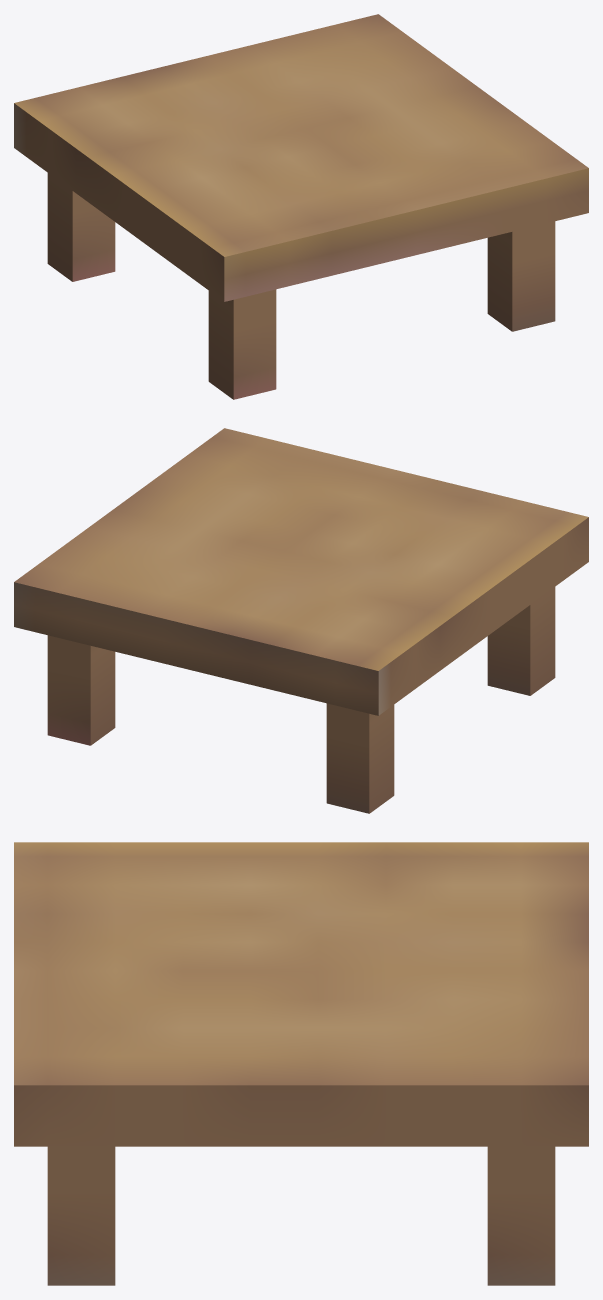
File: KiddieTableBrown_00.obj
The picture shows the model from 3 angles, top to bottom: view 1: azimuth 30°, elevation 25°; view 2: azimuth 150°, elevation 25°; view 3: azimuth 270°, elevation 25°; orthographic projection. The views are drawn at different scales.
Parts seen in each view (by area): view 1: KiddieTableBrown_00; view 2: KiddieTableBrown_00; view 3: KiddieTableBrown_00.
Part boxes in pixels (box(x1,y1,x2,y2)): KiddieTableBrown_00: box(14, 14, 588, 399); KiddieTableBrown_00: box(14, 428, 588, 813); KiddieTableBrown_00: box(14, 842, 588, 1285).
Bounding box in the file's own units: 0.85 × 0.35 × 0.85.
